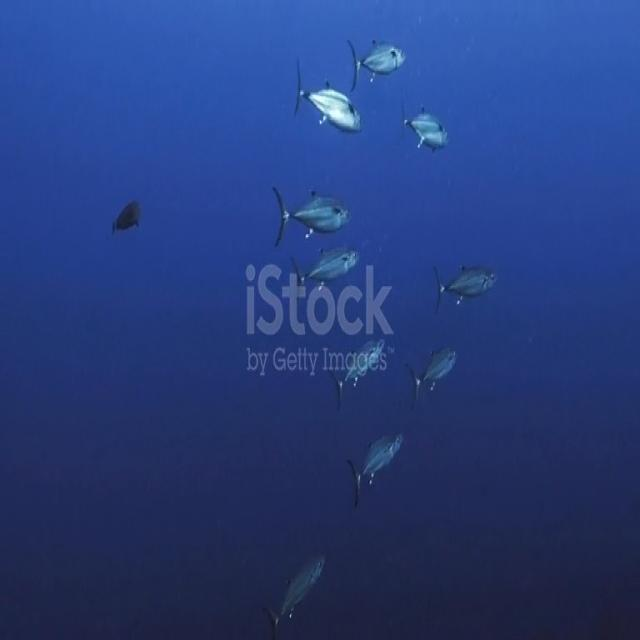fish: (271, 180, 353, 247), (293, 62, 363, 140), (265, 549, 330, 631), (348, 424, 407, 509), (329, 333, 389, 410), (432, 255, 506, 315), (406, 335, 461, 408), (288, 243, 367, 286), (398, 103, 453, 164), (348, 36, 407, 92), (113, 193, 144, 239)
